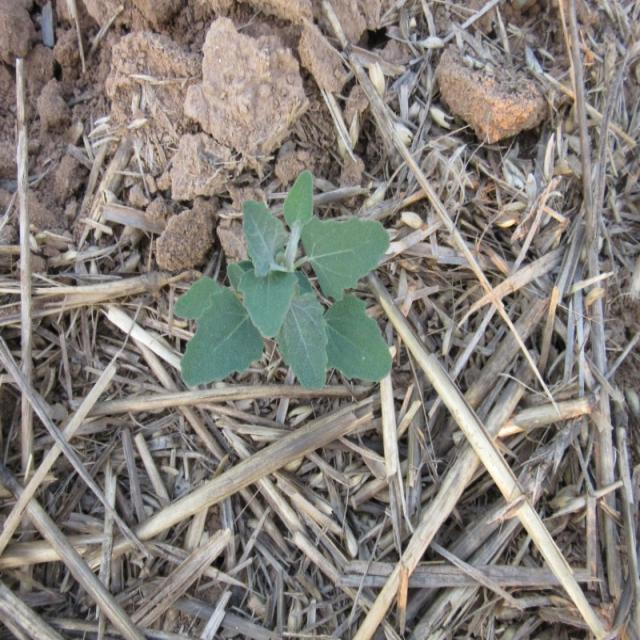ca: (174, 170, 399, 394)
